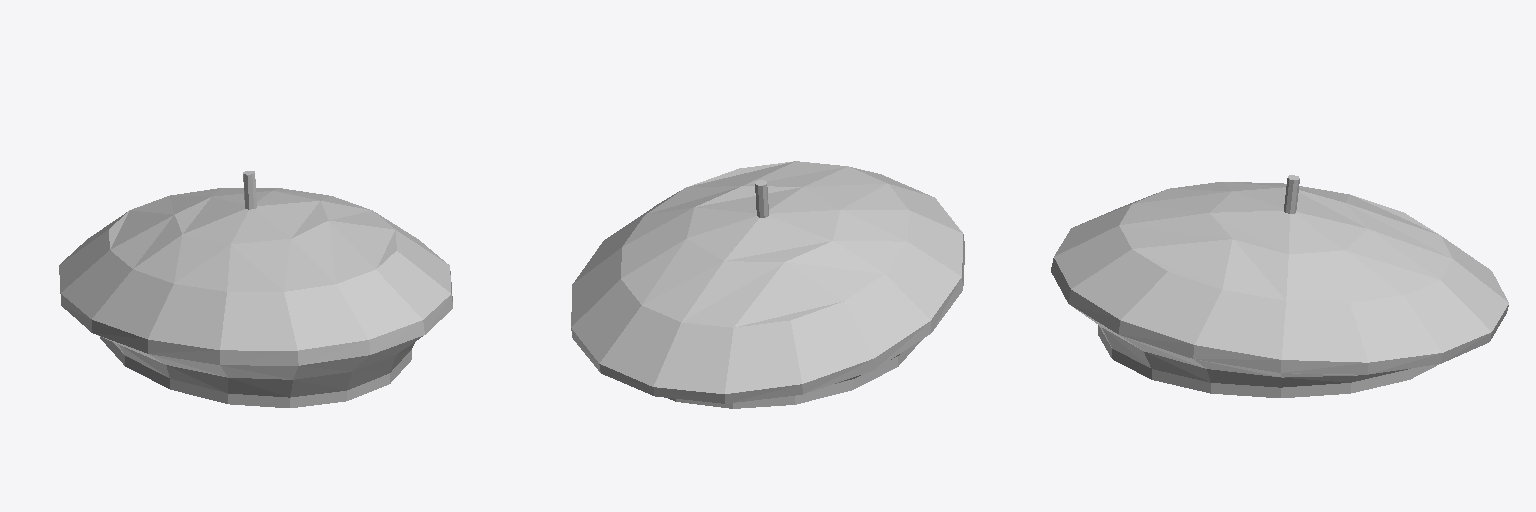
File: beret.obj
3 renders of one model, left to right at view 1: azimuth 30°, elevation 25°; view 2: azimuth 150°, elevation 25°; view 3: azimuth 270°, elevation 25°, orthographic.
Parts seen in each view (by area): view 1: Plane; view 2: Plane; view 3: Plane.
Part boxes in pixels (x1,y1,x2,y2): Plane: (59,171,452,407); Plane: (571,161,964,408); Plane: (1051,175,1508,397).
Size of the model in its own units: 0.5344 by 0.2458 by 0.648.